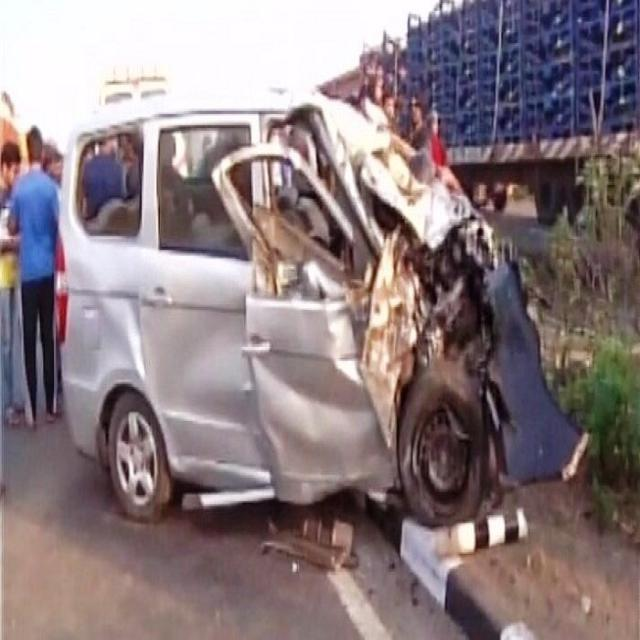accident: (60, 95, 502, 522)
